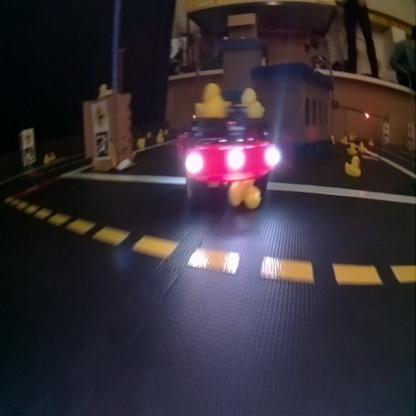Duckie: (194, 83, 225, 116), (228, 179, 260, 208), (240, 89, 262, 116), (344, 155, 361, 176), (98, 83, 112, 96)
Duckiebot: (176, 118, 277, 196)
Intersection sign: (91, 104, 107, 127)
QR code: (94, 131, 107, 158)
